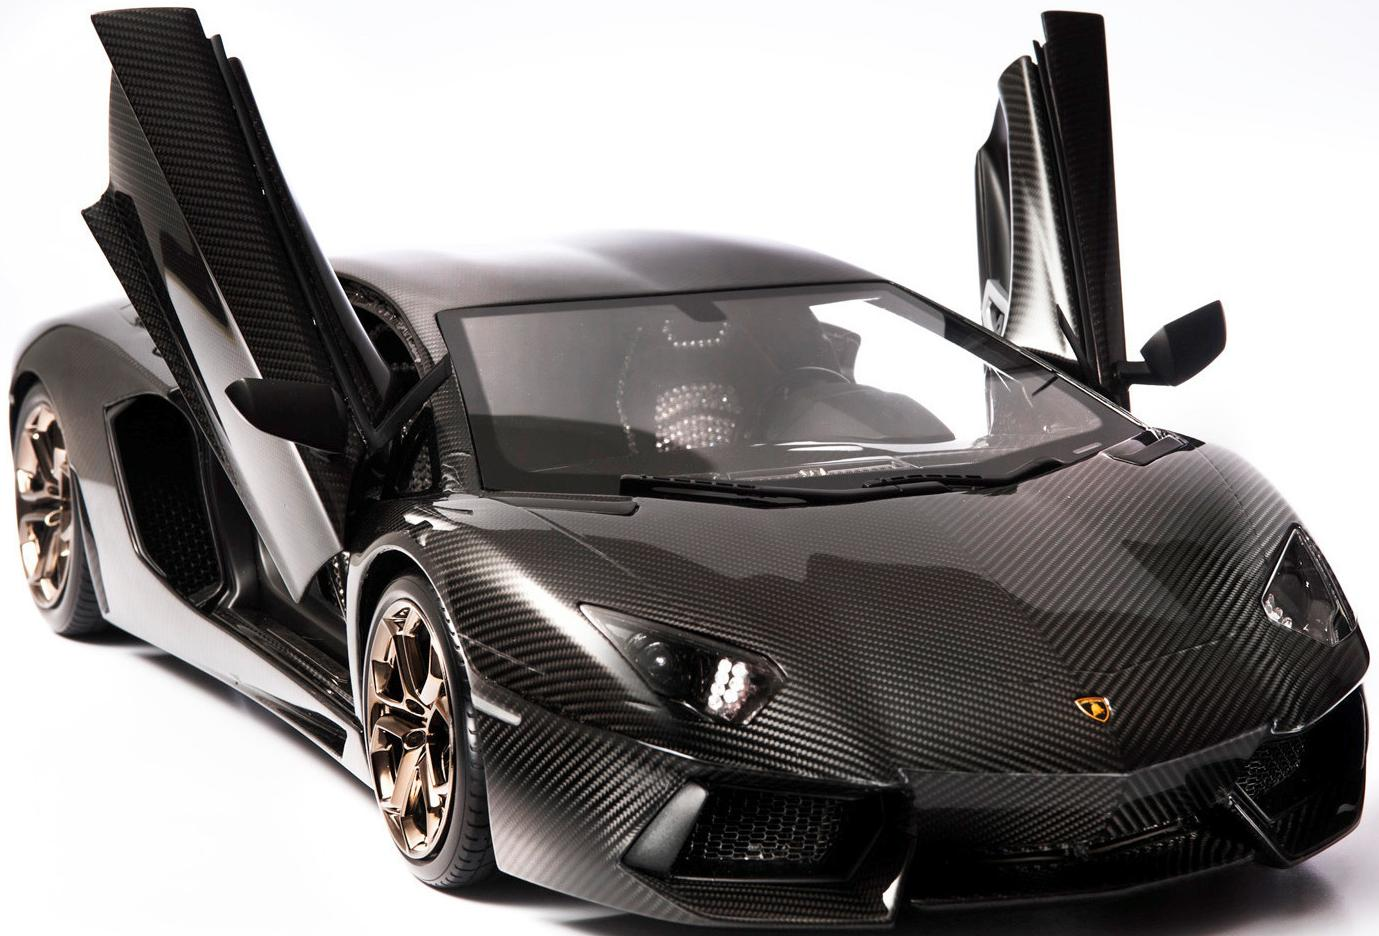front_view: (563, 543, 1373, 935)
headlight: (575, 592, 791, 738)
